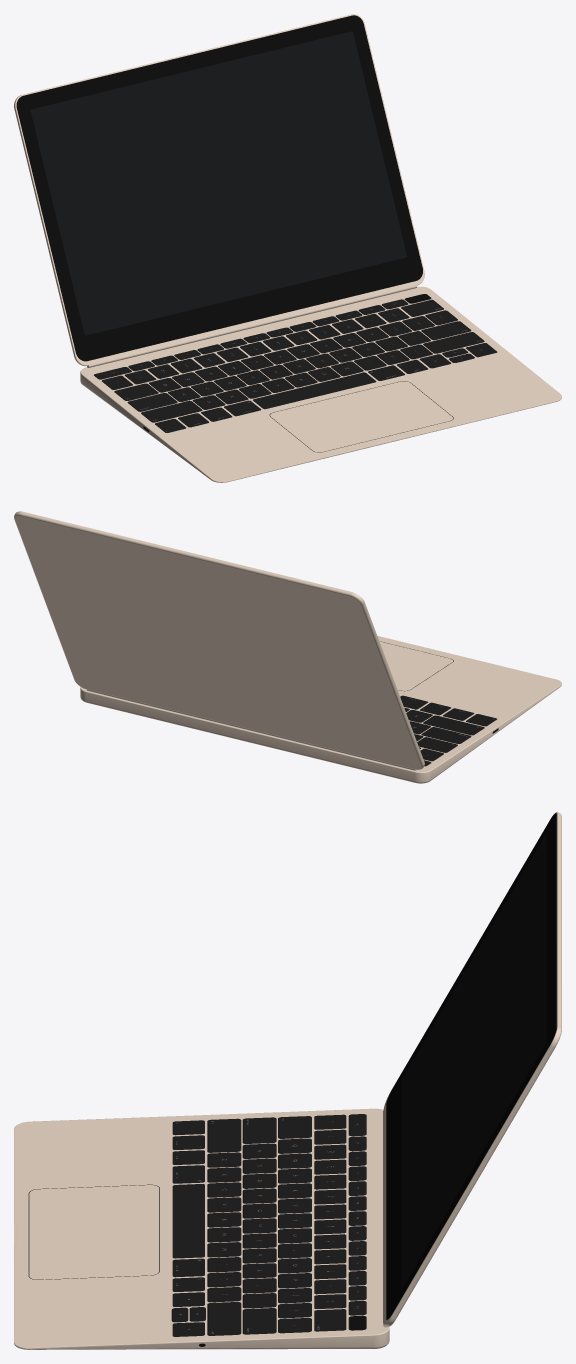
The model's file is macbook12-2015.glb.
3 views of the same model, one above another, from view 1: azimuth 30°, elevation 25°; view 2: azimuth 150°, elevation 25°; view 3: azimuth 270°, elevation 25° (orthographic). The views are drawn at different scales.
Parts seen in each view (by area): view 1: screen, keycaps, base, cover_glass, trackpad, lid_shell, key_gaps, grille, hinge_clutch; view 2: lid_shell, base, keycaps, trackpad, hinge_clutch; view 3: keycaps, base, screen, trackpad, cover_glass, key_gaps, lid_shell, grille.
Boxes of the visible parts, bbox=[...] form: screen: bbox=[30, 31, 407, 335]; keycaps: bbox=[94, 299, 497, 432]; base: bbox=[80, 286, 561, 482]; cover_glass: bbox=[16, 15, 422, 361]; trackpad: bbox=[270, 381, 452, 452]; lid_shell: bbox=[14, 14, 424, 366]; key_gaps: bbox=[94, 294, 484, 422]; grille: bbox=[88, 290, 424, 372]; hinge_clutch: bbox=[106, 289, 399, 363]; lid_shell: bbox=[14, 511, 424, 769]; base: bbox=[80, 636, 561, 783]; keycaps: bbox=[400, 695, 496, 765]; trackpad: bbox=[379, 641, 452, 690]; hinge_clutch: bbox=[104, 693, 397, 766]; keycaps: bbox=[172, 1114, 365, 1336]; base: bbox=[14, 1108, 389, 1349]; screen: bbox=[401, 833, 546, 1289]; trackpad: bbox=[29, 1185, 159, 1279]; cover_glass: bbox=[386, 813, 556, 1319]; key_gaps: bbox=[171, 1114, 366, 1335]; lid_shell: bbox=[383, 812, 561, 1326]; grille: bbox=[371, 1113, 378, 1330].
Bounding box in the file's own units: 0.2805 × 0.1835 × 0.2866.
